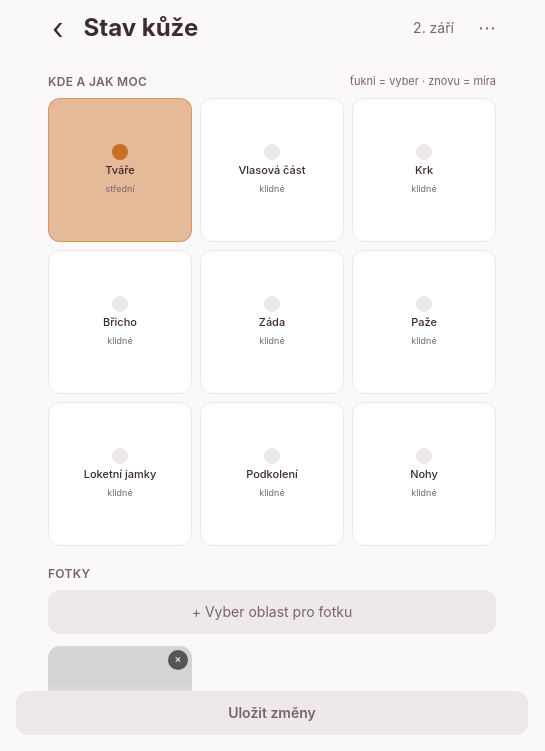
it: skin/+page.svelte — region grid › tapping × on a persisted photo greys it and reveals an Undo affordance
// × on the persisted photo enters the "marked for removal" state.
Click the button with test id "skin-photo-delete-0" at (178, 660), box x1=168 y1=650 x2=188 y2=670
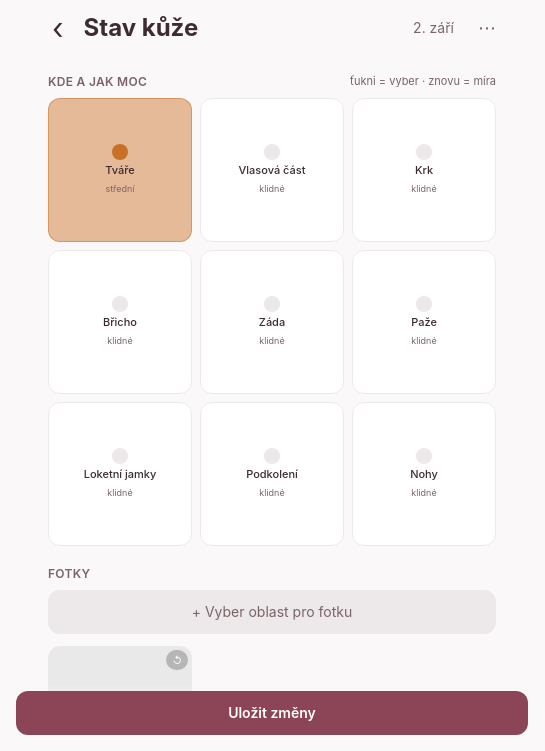
expect the button with test id "skin-photo-undo-0" is shown: met, box x1=166 y1=650 x2=188 y2=670
expect the button with test id "skin-photo-delete-0" is gone: met
expect the button with test id "skin-save" is enabled: met, box x1=16 y1=691 x2=528 y2=735
